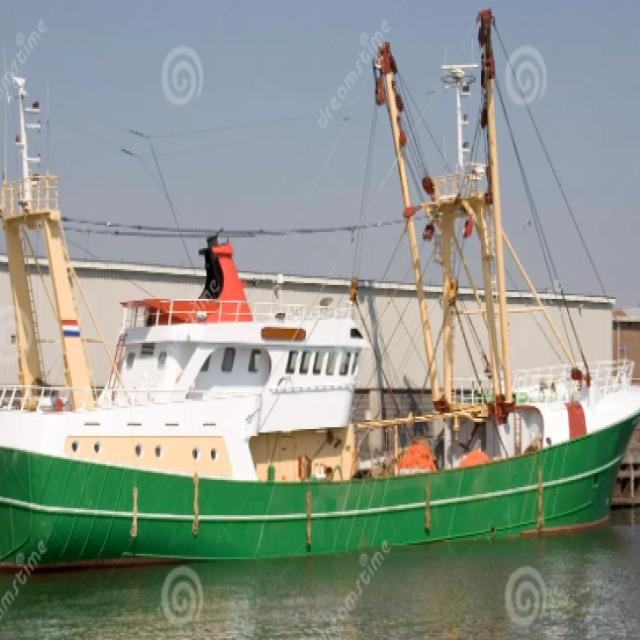fishing boat: (0, 52, 635, 559)
